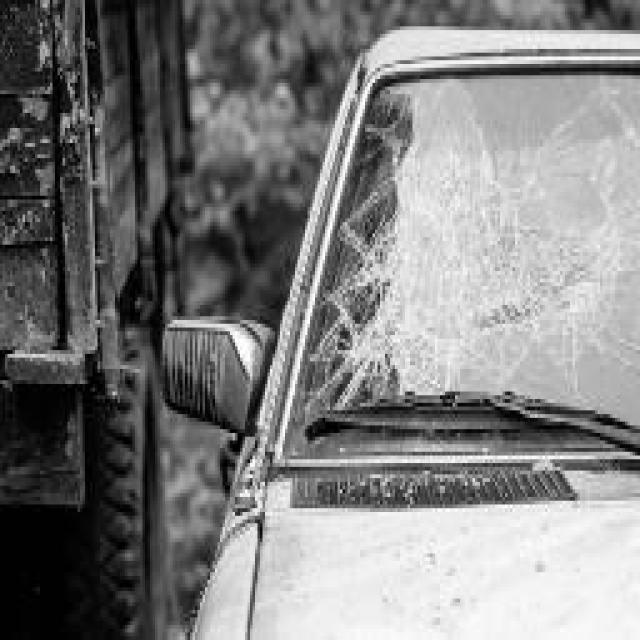Windshield: (308, 98, 640, 444)
